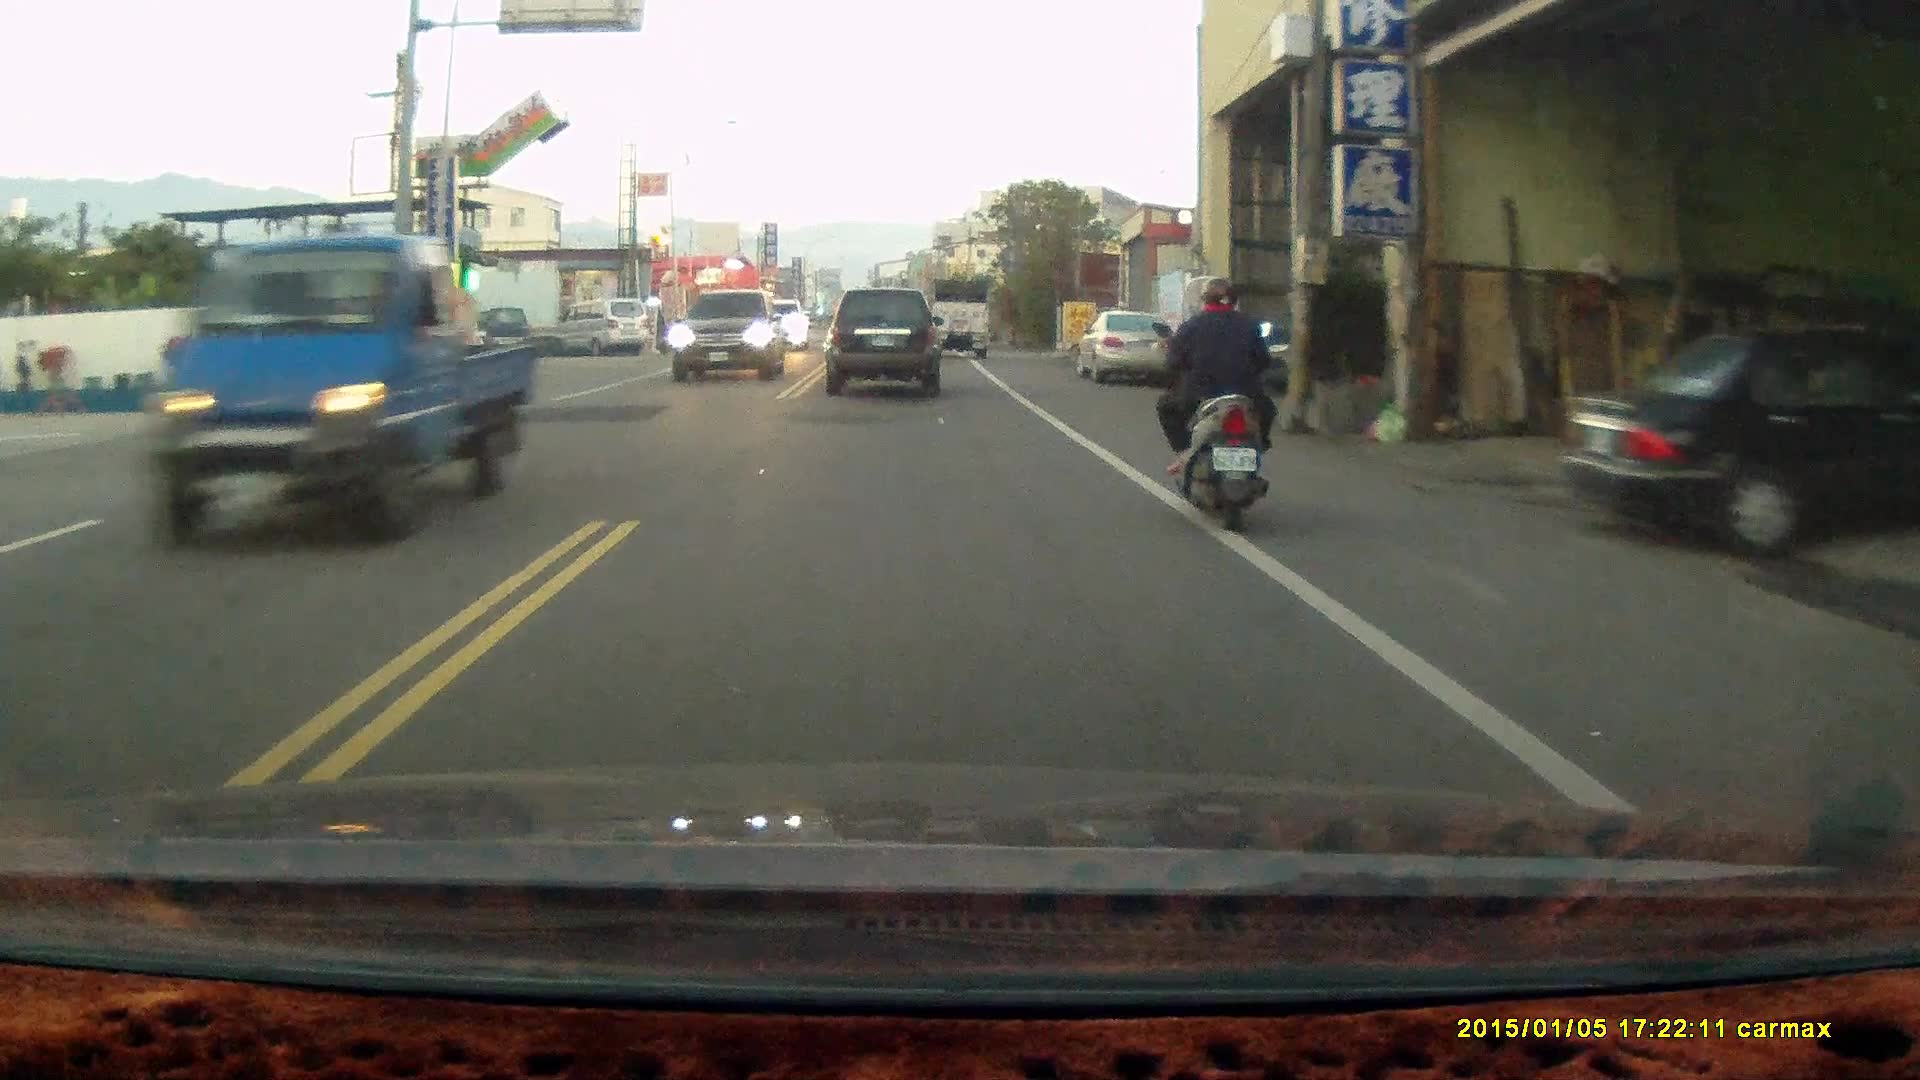rider: (1149, 268, 1278, 532)
vehicle: (151, 231, 526, 545), (1566, 309, 1920, 564), (827, 287, 942, 399), (672, 285, 792, 381), (1080, 311, 1171, 386), (926, 269, 996, 351), (557, 295, 651, 355)
